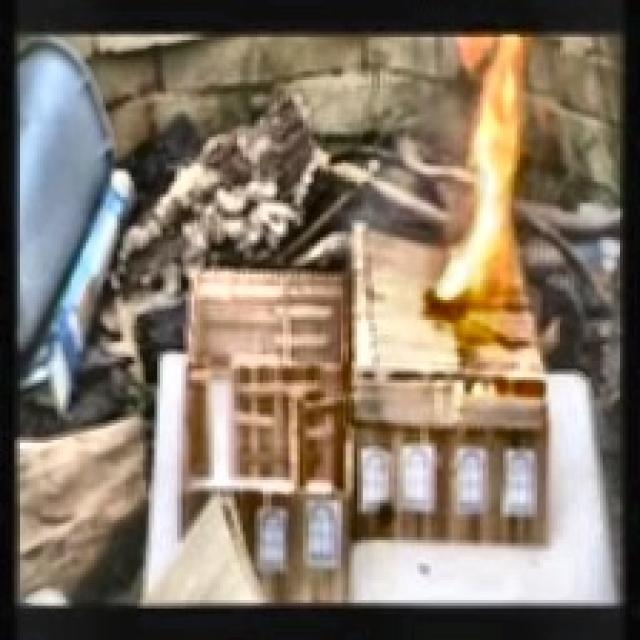fire: (398, 32, 542, 334)
